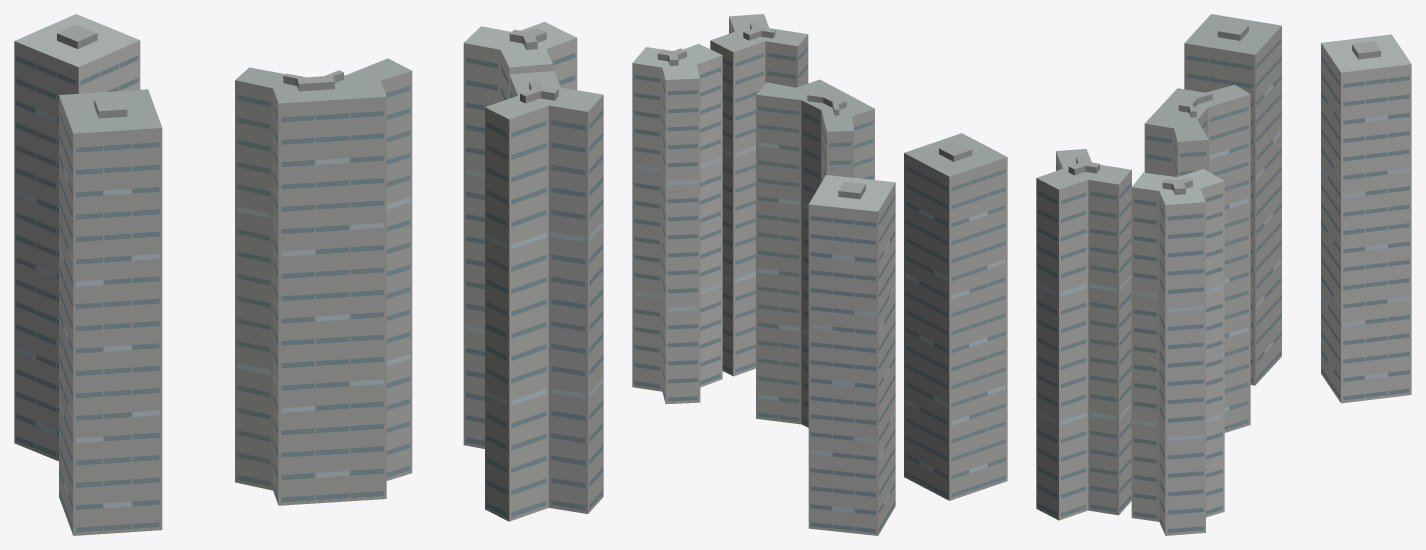
Rendered from apt-a14075201.glb.
3 views of the same model, side by side, from view 1: azimuth 30°, elevation 25°; view 2: azimuth 150°, elevation 25°; view 3: azimuth 270°, elevation 25° (orthographic). The views are drawn at different scales.
Parts seen in each view (by area): view 1: apt-a14075201; view 2: apt-a14075201; view 3: apt-a14075201.
Boxes of the visible parts, bbox=[...] form: apt-a14075201: bbox=[14, 14, 603, 535]; apt-a14075201: bbox=[632, 14, 1007, 535]; apt-a14075201: bbox=[1036, 14, 1411, 535].
Bounding box in the file's own units: 163 × 134 × 135.
